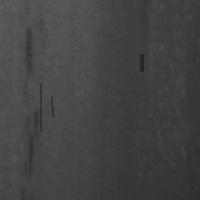inclusion: (20, 107, 45, 179), (20, 23, 38, 103), (38, 82, 42, 133), (49, 95, 54, 118), (139, 52, 143, 73)
